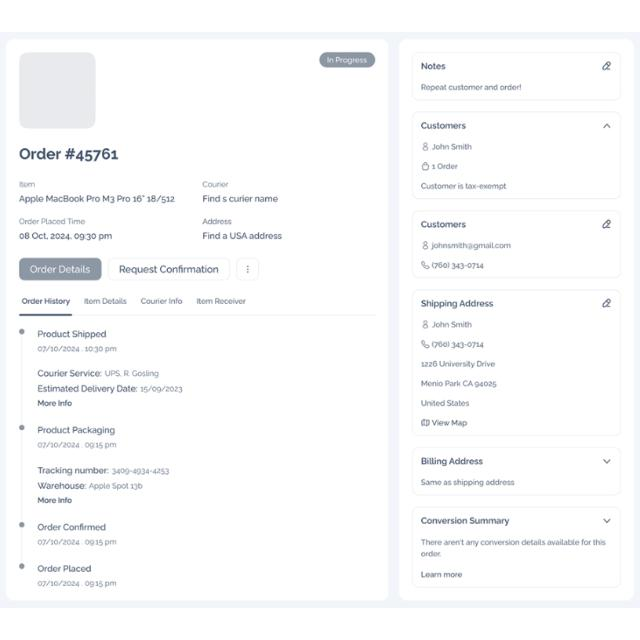QLabel: (421, 538, 607, 558), (18, 147, 118, 163), (18, 194, 175, 203), (18, 230, 112, 242), (118, 265, 220, 275), (36, 384, 138, 394), (421, 478, 515, 488), (421, 298, 494, 310), (420, 182, 506, 192), (202, 193, 280, 204), (202, 231, 282, 241), (37, 426, 115, 436), (420, 380, 496, 390), (420, 518, 510, 526), (36, 330, 108, 340), (37, 466, 109, 476), (421, 85, 522, 92), (36, 539, 118, 547), (36, 580, 118, 588), (431, 242, 512, 250), (37, 346, 117, 354), (37, 441, 117, 449), (421, 457, 483, 467), (420, 361, 496, 369), (30, 265, 90, 275), (88, 482, 144, 492), (18, 218, 86, 226), (38, 524, 106, 532), (431, 340, 485, 350), (105, 370, 159, 380), (110, 468, 170, 477), (38, 370, 102, 378), (196, 296, 247, 306), (36, 482, 86, 491), (431, 262, 485, 270), (37, 565, 91, 573), (420, 570, 462, 580), (21, 298, 71, 306), (422, 400, 471, 408), (420, 122, 466, 130), (420, 221, 466, 229), (140, 297, 182, 305), (326, 56, 368, 64), (140, 386, 182, 394), (432, 420, 468, 428), (36, 399, 72, 407), (36, 497, 72, 505), (82, 298, 128, 304), (202, 218, 232, 226), (432, 322, 472, 328), (432, 144, 472, 150), (201, 181, 229, 189), (420, 62, 446, 70), (432, 162, 458, 170), (18, 180, 36, 188)
VBtn: (107, 258, 230, 280), (19, 258, 101, 280)
VCard: (4, 35, 388, 602), (398, 36, 636, 604), (411, 289, 621, 437), (411, 209, 621, 279), (412, 51, 622, 100), (18, 52, 96, 128)
VChip: (319, 52, 375, 68)
VExpansionPanel: (412, 110, 622, 200), (412, 506, 622, 588), (411, 447, 621, 497)
VIcon: (600, 298, 612, 308), (602, 218, 612, 230), (602, 61, 612, 71), (422, 418, 431, 428), (420, 339, 430, 348), (421, 261, 429, 269), (422, 321, 428, 329), (422, 242, 428, 250), (246, 265, 250, 275)
VTabs: (12, 292, 380, 594)
VTimeline: (15, 325, 186, 591)
